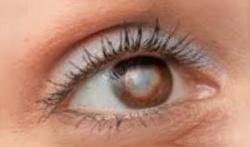eye: (113, 55, 174, 108)
